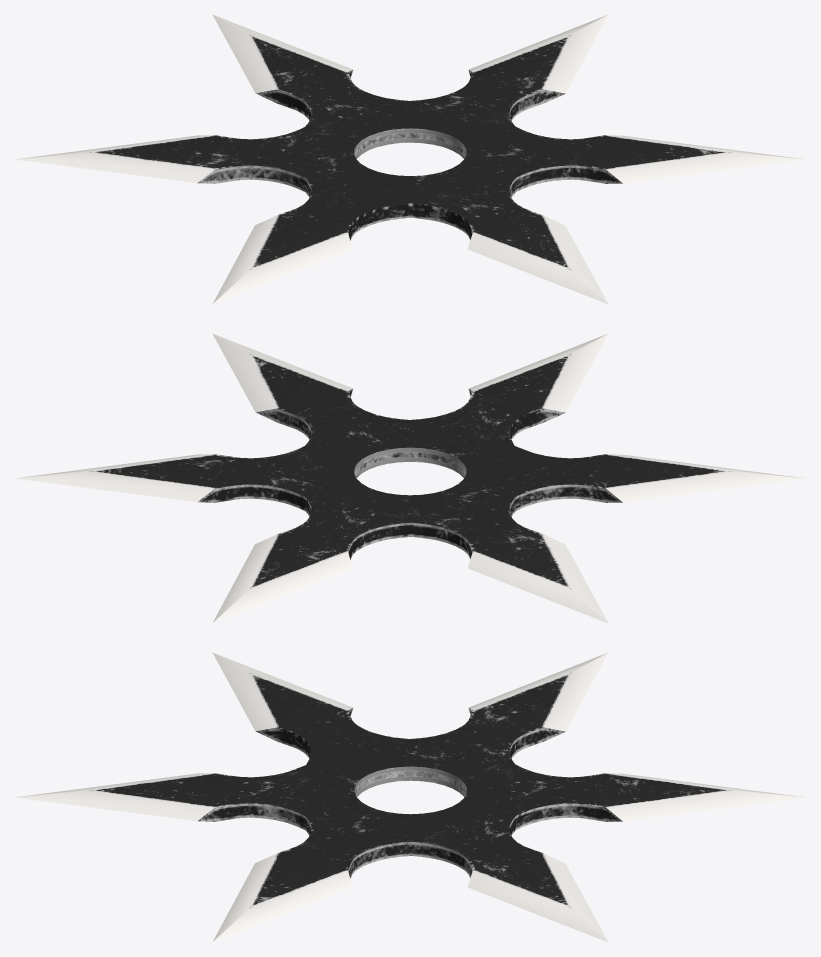
Rendered from Shuriken2_low.fbx.
3 views of the same model, one above another, from view 1: azimuth 30°, elevation 25°; view 2: azimuth 150°, elevation 25°; view 3: azimuth 270°, elevation 25° (orthographic).
Parts seen in each view (by area): view 1: shuriken2_low; view 2: shuriken2_low; view 3: shuriken2_low.
Boxes of the visible parts, x1,y1,x2,y2 form: shuriken2_low: (14,14,806,304); shuriken2_low: (14,333,806,623); shuriken2_low: (14,652,806,942).
Bounding box in the file's own units: 994 × 22.8 × 1148.
Materials: 1 (1 with a texture image).
